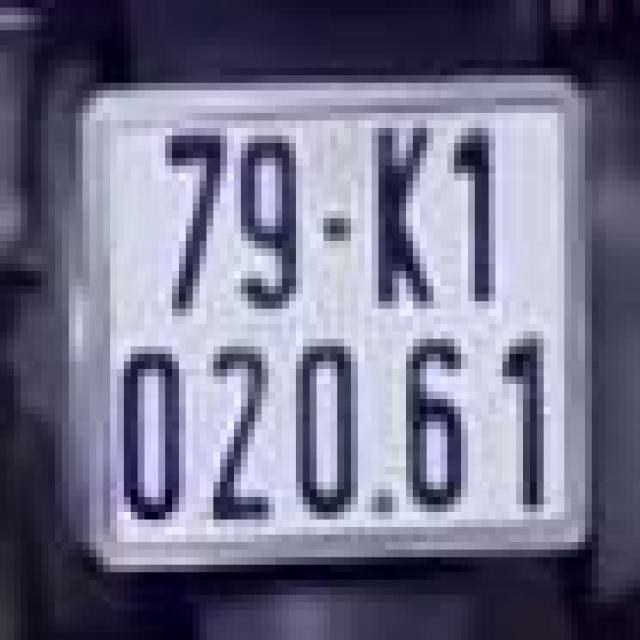0: (114, 312, 189, 531), (289, 324, 351, 527)
1: (444, 109, 519, 328), (492, 305, 561, 523)
2: (206, 327, 268, 531)
6: (385, 324, 475, 512)
7: (155, 102, 230, 320)
9: (238, 116, 313, 328)
K: (351, 106, 447, 316)
